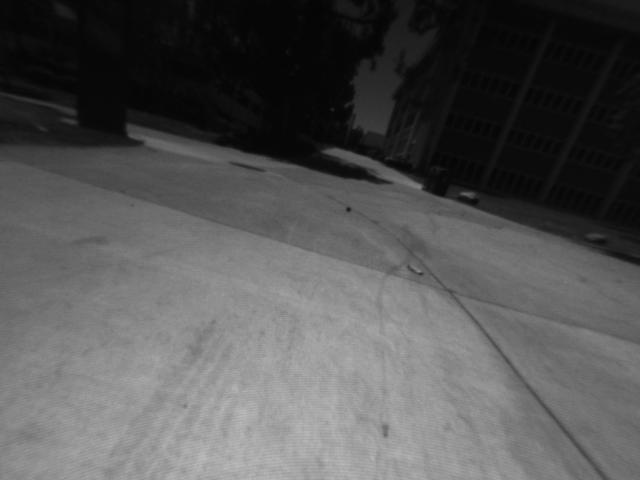dogtoy: (340, 197, 360, 218)
